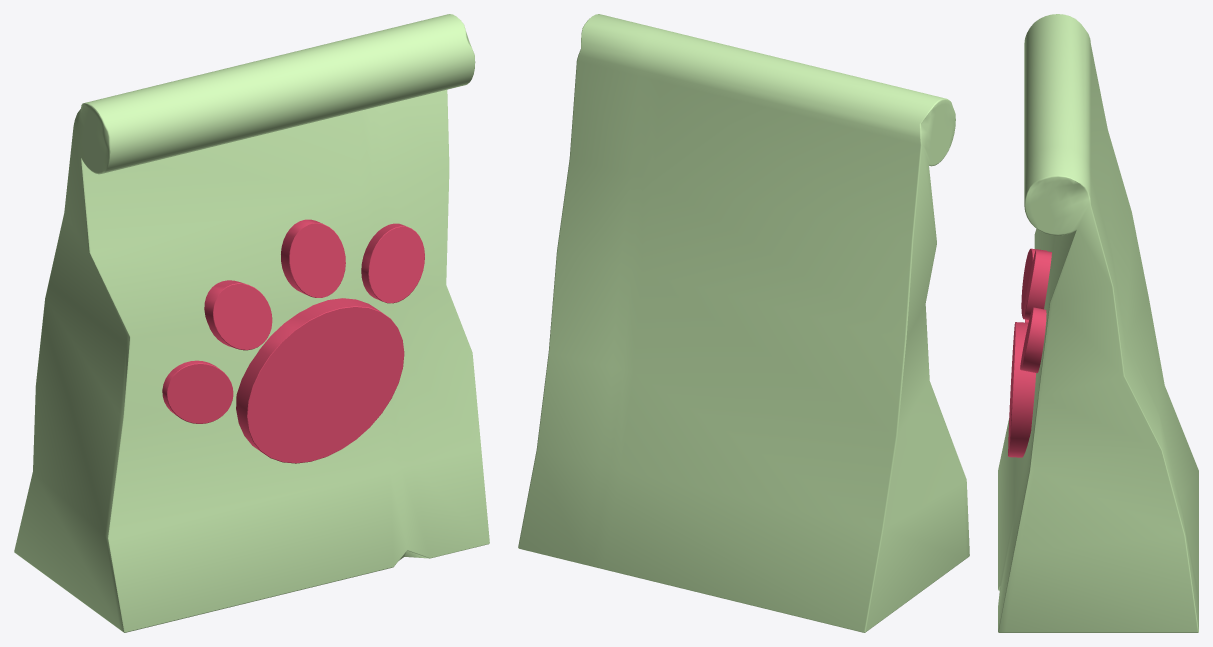
Rendered from kocimietka_glow.fbx.
The picture shows the model from 3 angles, left to right: view 1: azimuth 30°, elevation 25°; view 2: azimuth 150°, elevation 25°; view 3: azimuth 270°, elevation 25°; orthographic projection. The views are drawn at different scales.
Parts seen in each view (by area): view 1: kocimietka; view 2: kocimietka; view 3: kocimietka.
Part boxes in pixels (box(x1,y1,x2,y2)): kocimietka: box(14, 14, 489, 632); kocimietka: box(518, 14, 969, 632); kocimietka: box(998, 14, 1198, 632).
Size of the model in its own units: 156 by 202 by 80.38.
